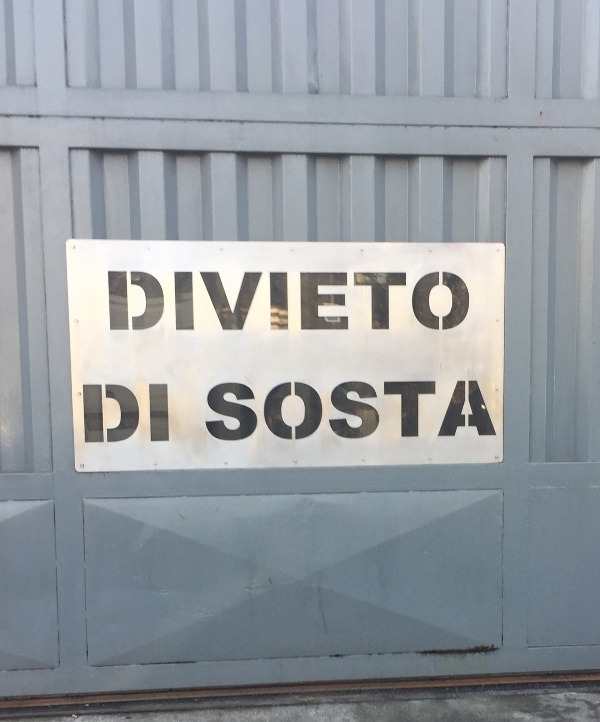text: (113, 268, 128, 336), (129, 268, 144, 336), (145, 268, 160, 336), (161, 268, 176, 336), (177, 268, 192, 336), (193, 268, 208, 336), (209, 268, 224, 336), (225, 268, 240, 336), (241, 268, 256, 336), (257, 268, 272, 336), (273, 268, 288, 336), (289, 268, 304, 336), (305, 268, 320, 336), (321, 268, 336, 336), (337, 268, 352, 336), (353, 268, 368, 336), (369, 268, 384, 336), (385, 268, 400, 336), (401, 268, 416, 336), (417, 268, 432, 336), (433, 268, 448, 336), (449, 268, 464, 336), (97, 381, 112, 445), (113, 381, 128, 445), (129, 381, 144, 445), (145, 381, 160, 445), (209, 380, 224, 444), (225, 380, 240, 444), (241, 380, 256, 444), (257, 380, 272, 444), (273, 380, 288, 444), (289, 380, 304, 444), (305, 380, 320, 444), (321, 380, 336, 444), (337, 380, 352, 444), (353, 380, 368, 444), (369, 380, 384, 444), (385, 380, 400, 444), (401, 380, 416, 444), (417, 380, 432, 444), (433, 380, 448, 444), (449, 380, 464, 444), (465, 380, 480, 444), (481, 380, 496, 444), (82, 381, 96, 445), (161, 381, 170, 445), (465, 268, 471, 336), (107, 268, 112, 336), (497, 380, 499, 444), (207, 380, 208, 444)
